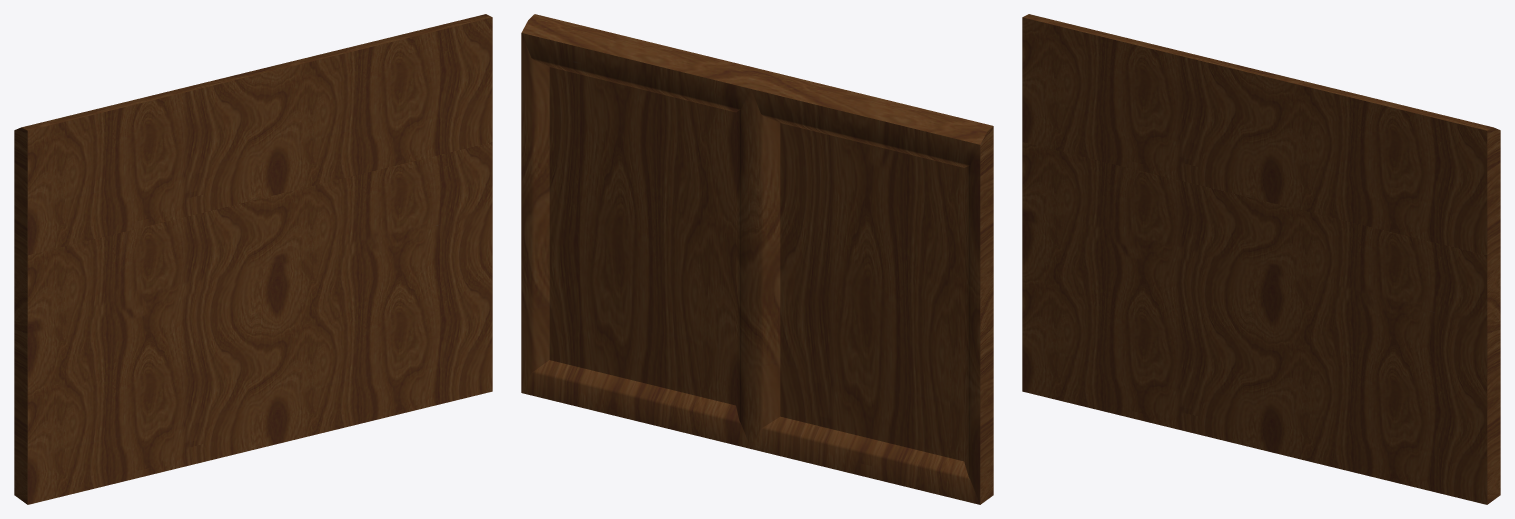
Rendered from Misc_WallTrim.fbx.
3 renders of one model, left to right at view 1: azimuth 30°, elevation 25°; view 2: azimuth 150°, elevation 25°; view 3: azimuth 330°, elevation 25°, orthographic.
Parts seen in each view (by area): view 1: pCube2; view 2: pCube2; view 3: pCube2.
Boxes of the visible parts, x1,y1,x2,y2 form: pCube2: [14, 14, 492, 504]; pCube2: [521, 14, 993, 504]; pCube2: [1022, 14, 1500, 504].
Bounding box in the file's own units: 100 × 76.92 × 5.
